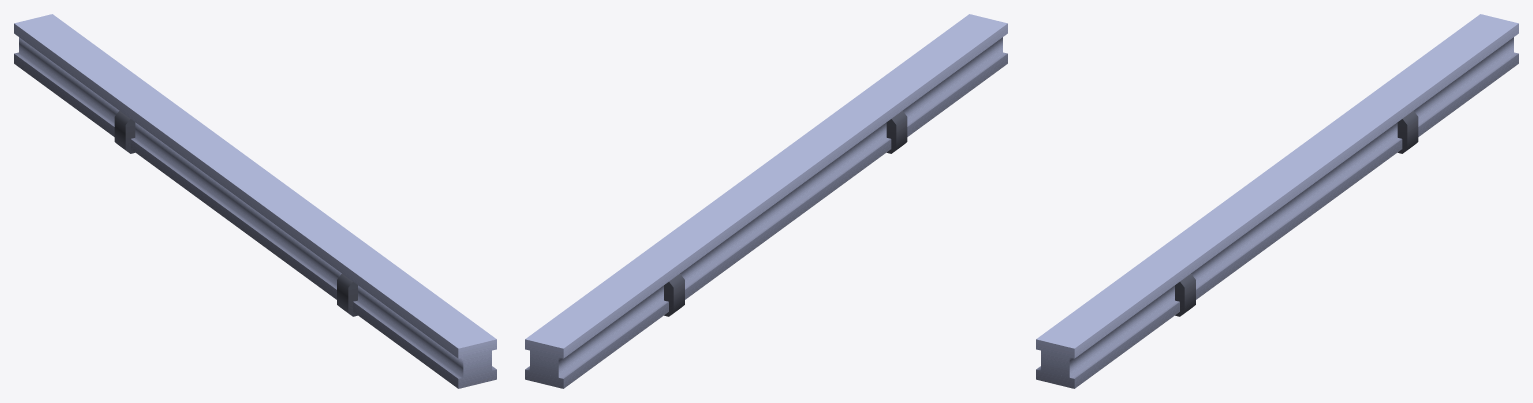
The model's file is coaster-monorail-straight.glb.
3 renders of one model, left to right at view 1: azimuth 30°, elevation 25°; view 2: azimuth 150°, elevation 25°; view 3: azimuth 330°, elevation 25°, orthographic.
Visible parts, largest first — view 1: coaster-monorail-straight; view 2: coaster-monorail-straight; view 3: coaster-monorail-straight.
Boxes of the visible parts, x1,y1,x2,y2 form: coaster-monorail-straight: (14, 14, 496, 388); coaster-monorail-straight: (525, 14, 1007, 388); coaster-monorail-straight: (1036, 14, 1518, 388).
Bounding box in the file's own units: 0.75 × 0.675 × 12.
1 material, 1 textured.
